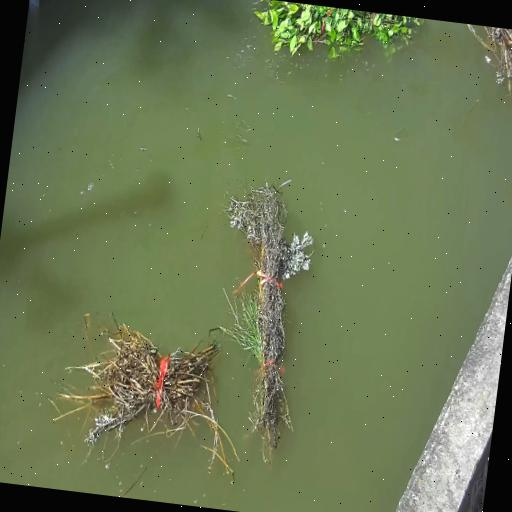twig: (186, 176, 331, 463), (62, 292, 254, 478), (237, 0, 417, 71), (440, 22, 512, 104)
